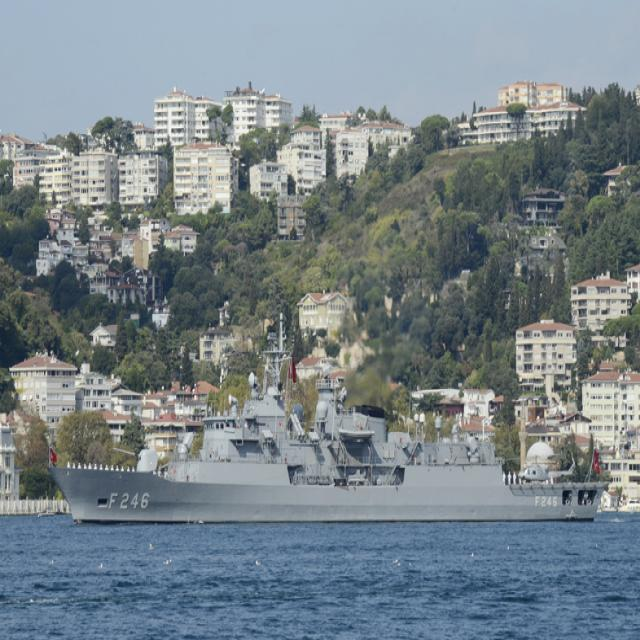Fragata: (48, 299, 610, 533)
